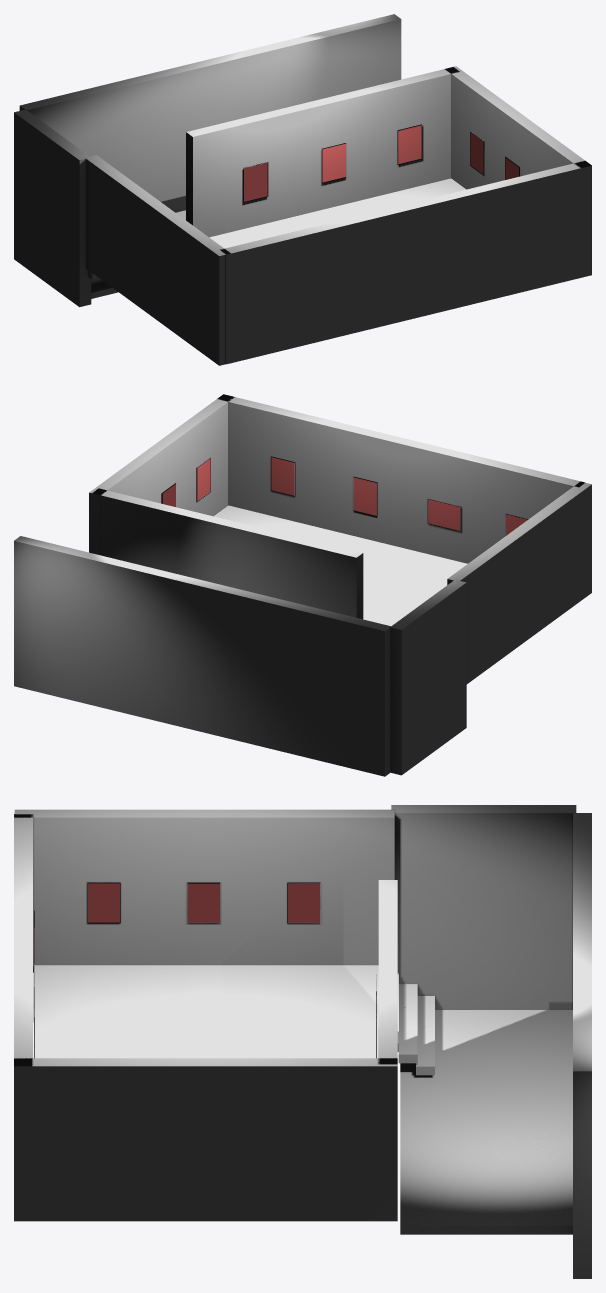
Rendered from wakeupcallSCIANY.glb.
3 renders of one model, top to bottom at view 1: azimuth 30°, elevation 25°; view 2: azimuth 150°, elevation 25°; view 3: azimuth 270°, elevation 25°, orthographic. The views are drawn at different scales.
Visible parts, largest first — view 1: FloorWakeUp_1.001; view 2: FloorWakeUp_1.001; view 3: FloorWakeUp_1.001.
Boxes of the visible parts, box(x1,y1,x2,y2) form: FloorWakeUp_1.001: box(14, 14, 591, 365); FloorWakeUp_1.001: box(14, 394, 591, 776); FloorWakeUp_1.001: box(14, 805, 591, 1278).
Size of the model in its own units: 33.15 by 12.06 by 30.43.
Materials: 1 (1 with a texture image).
